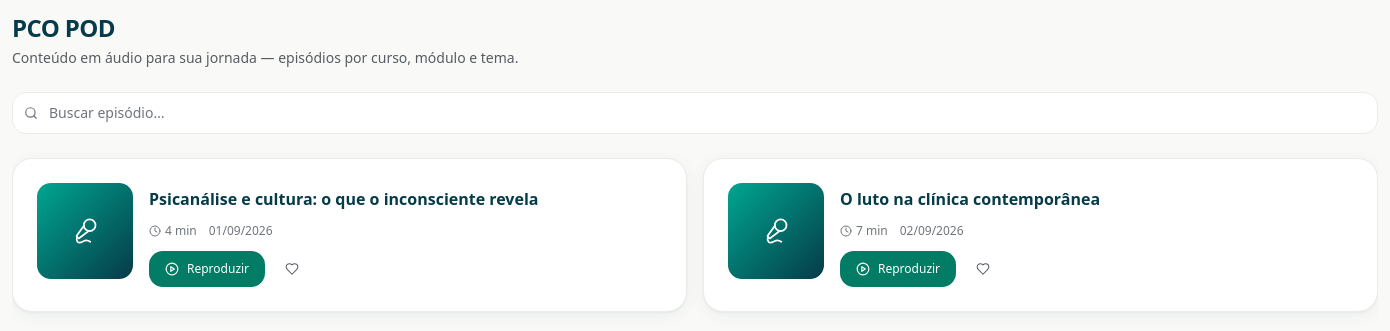
busca nos episódios › não achar nada diz que foi a busca
The width and height of the screenshot is (1390, 331).
Type "lacan" into the search field at (695, 113), box [12,92,1378,134]
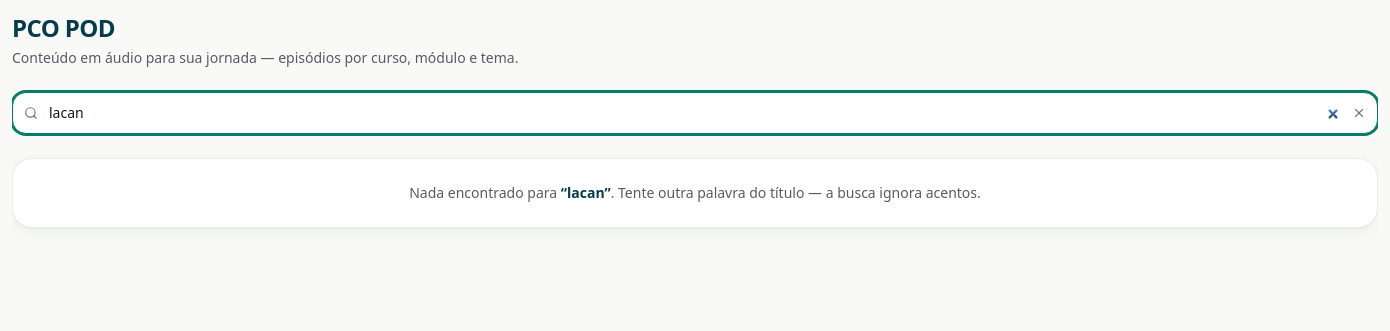
expect the text "Nada encontrado para" is shown: met, box [409,183,561,202]
